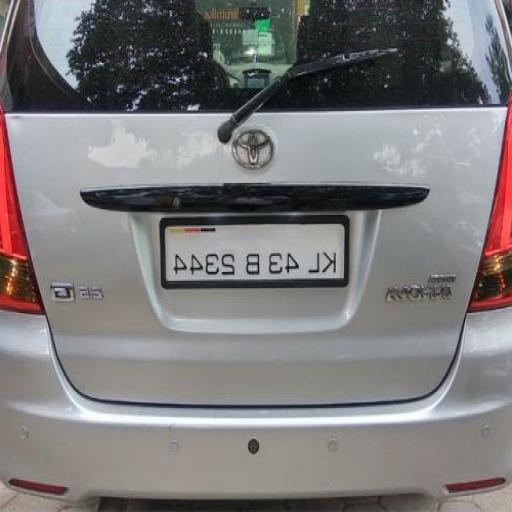License: (166, 219, 347, 281)
